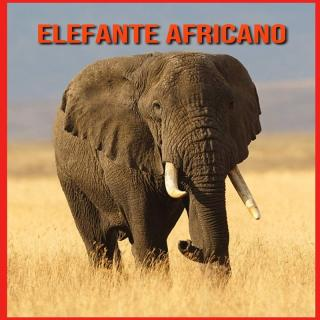Elephant: (41, 48, 272, 302)
